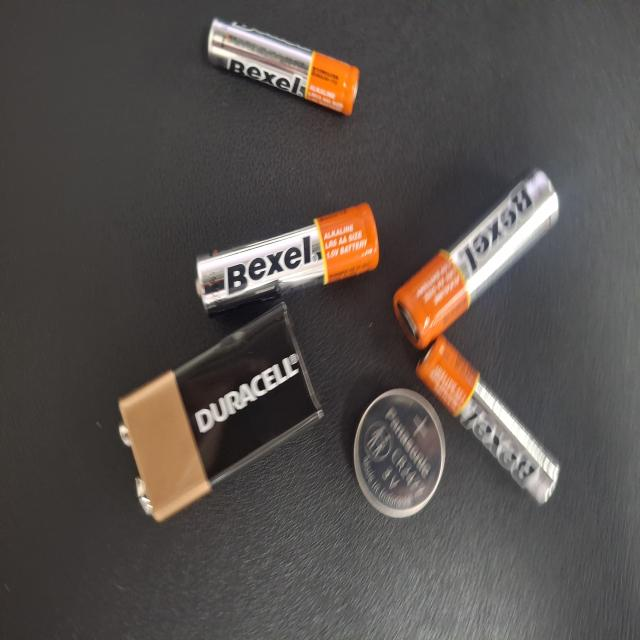9V: (318, 118, 522, 337)
AA: (81, 291, 246, 470), (261, 328, 444, 437)
AAA: (80, 136, 224, 304), (281, 524, 433, 622)
COIN: (196, 123, 286, 251)
